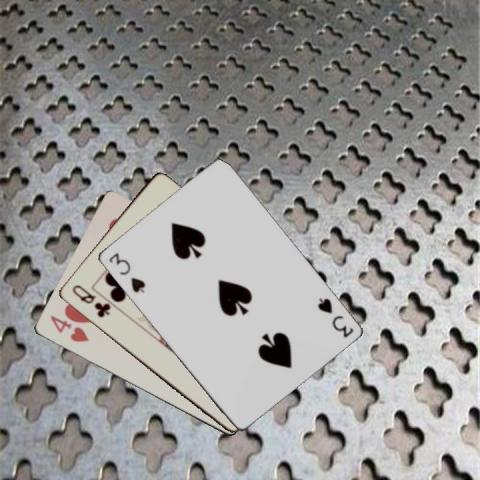3s: (104, 249, 146, 294), (314, 295, 355, 339)
4h: (47, 312, 90, 344)
Qc: (69, 282, 111, 320)
